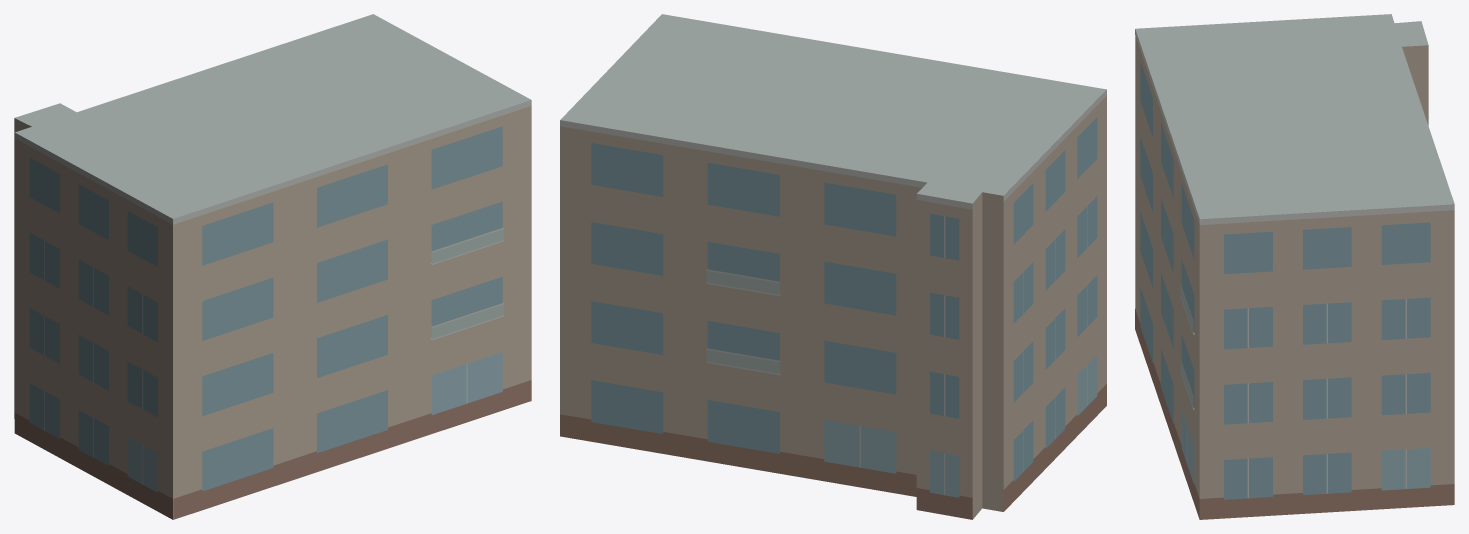
The model's file is survey-upis-32595578.glb.
The picture shows the model from 3 angles, left to right: view 1: azimuth 30°, elevation 25°; view 2: azimuth 150°, elevation 25°; view 3: azimuth 270°, elevation 25°; orthographic projection. The views are drawn at different scales.
Parts seen in each view (by area): view 1: survey-upis-32595578.tmp; view 2: survey-upis-32595578.tmp; view 3: survey-upis-32595578.tmp.
Boxes of the visible parts, x1,y1,x2,y2 form: survey-upis-32595578.tmp: (14,14,531,519); survey-upis-32595578.tmp: (560,14,1106,519); survey-upis-32595578.tmp: (1135,14,1454,519).
Bounding box in the file's own units: 18.43 × 12.58 × 12.13.
